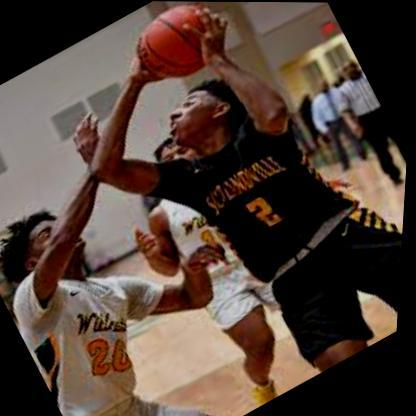basketball: (126, 1, 236, 91)
